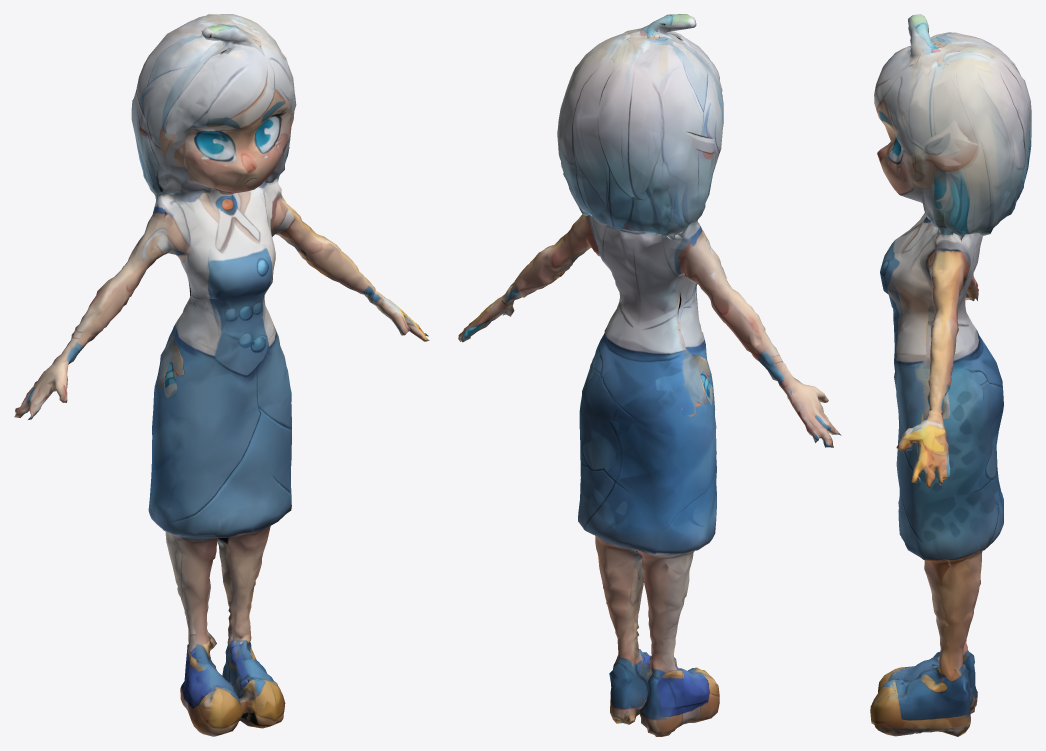
Rendered from Text Ai lv3 idle.glb.
3 views of the same model, side by side, from view 1: azimuth 30°, elevation 25°; view 2: azimuth 150°, elevation 25°; view 3: azimuth 270°, elevation 25° (orthographic).
Bounding box in the file's own units: 0.7009 × 1.2 × 0.2515.
1 material, 1 textured.
